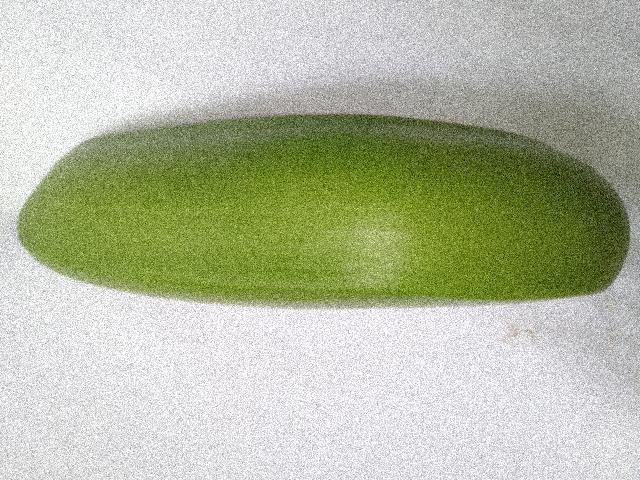freshunripe: (6, 93, 631, 310)
